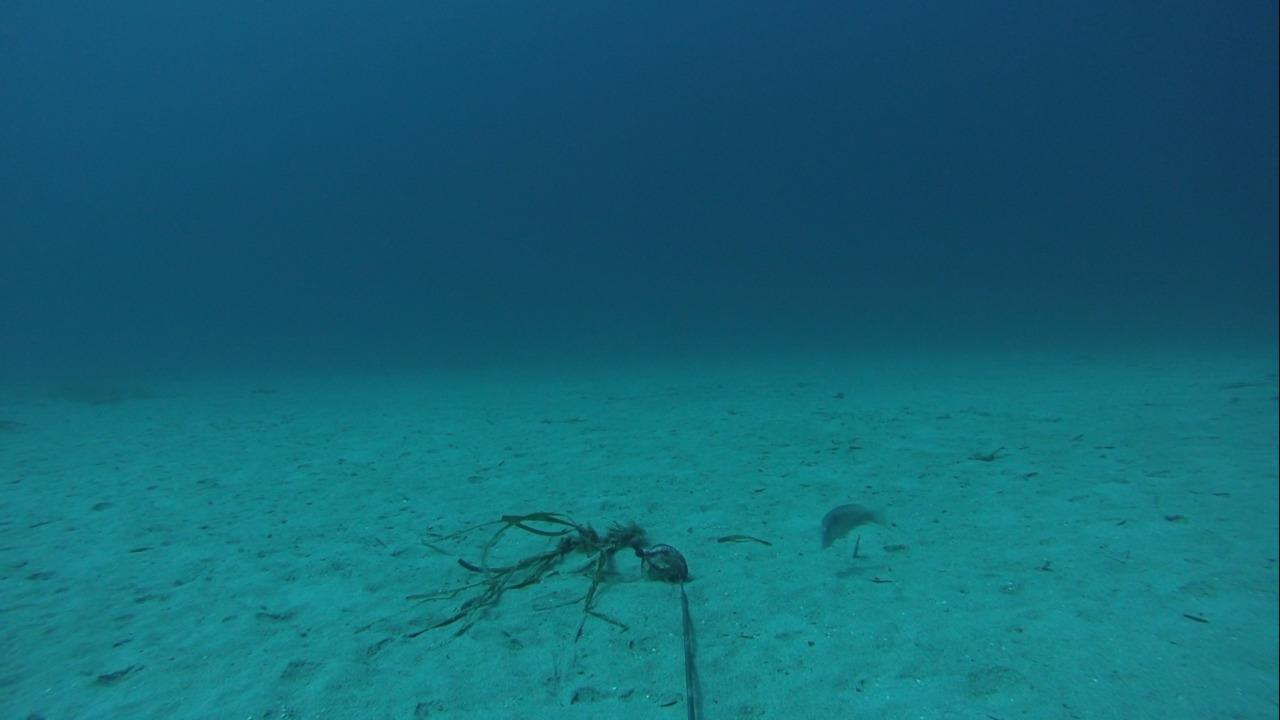raor: (815, 495, 886, 551)
